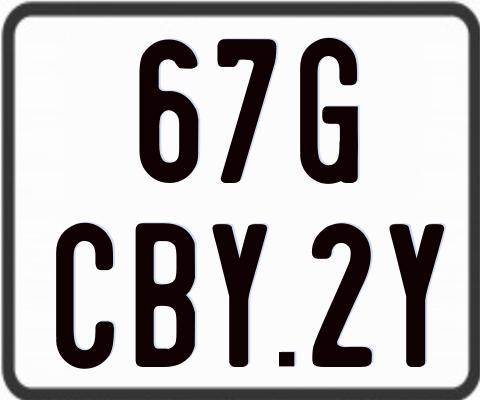2: (312, 222, 378, 370)
6: (136, 37, 196, 181)
7: (216, 37, 276, 183)
B: (133, 223, 197, 368)
C: (53, 223, 116, 370)
G: (298, 37, 358, 187)
Y: (387, 222, 446, 367), (211, 224, 268, 370)
